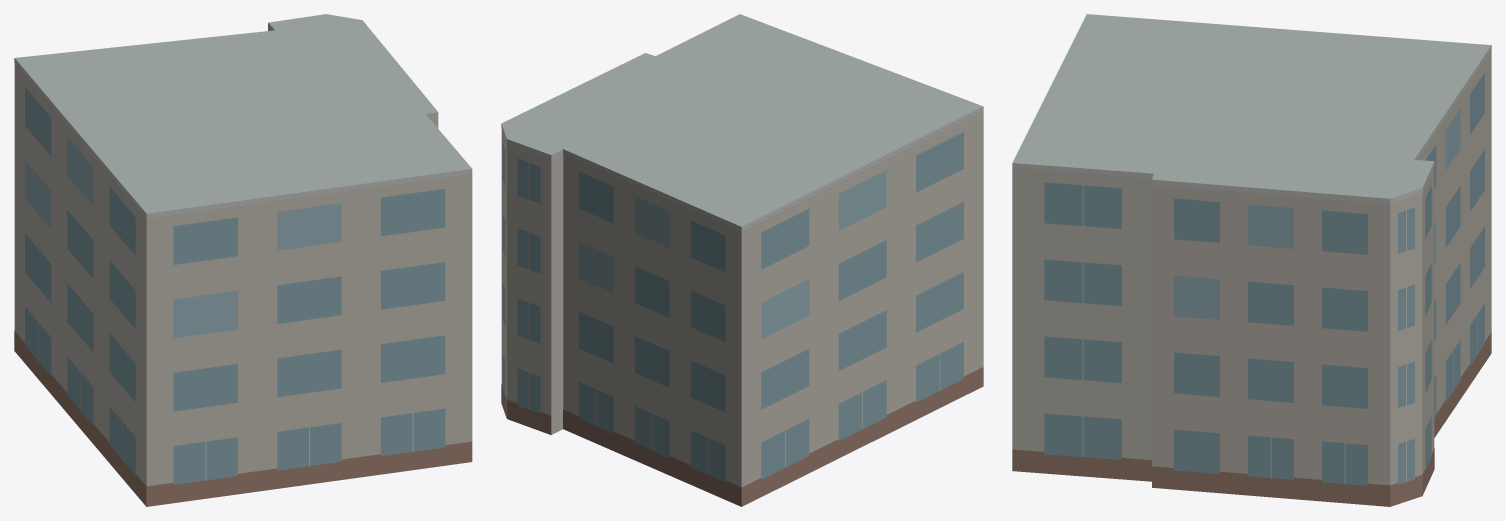
Rendered from survey-upis-32575675.glb.
3 renders of one model, left to right at view 1: azimuth 30°, elevation 25°; view 2: azimuth 150°, elevation 25°; view 3: azimuth 270°, elevation 25°, orthographic. The views are drawn at different scales.
Parts seen in each view (by area): view 1: survey-upis-32575675.tmp; view 2: survey-upis-32575675.tmp; view 3: survey-upis-32575675.tmp.
Part boxes in pixels (box(x1,y1,x2,y2)): survey-upis-32575675.tmp: box(14, 14, 472, 506); survey-upis-32575675.tmp: box(501, 14, 983, 506); survey-upis-32575675.tmp: box(1012, 14, 1491, 506).
Bounding box in the file's own units: 18.66 × 14.5 × 20.45.
